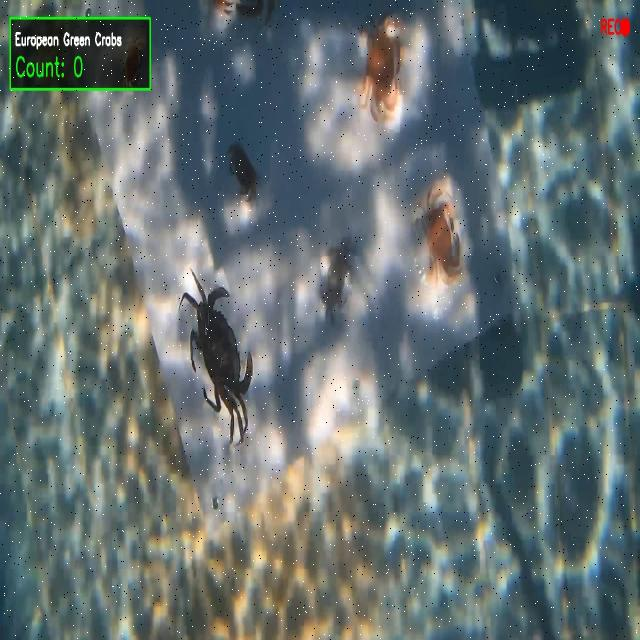European_Green_Crab: (172, 264, 273, 466), (311, 237, 362, 328)
